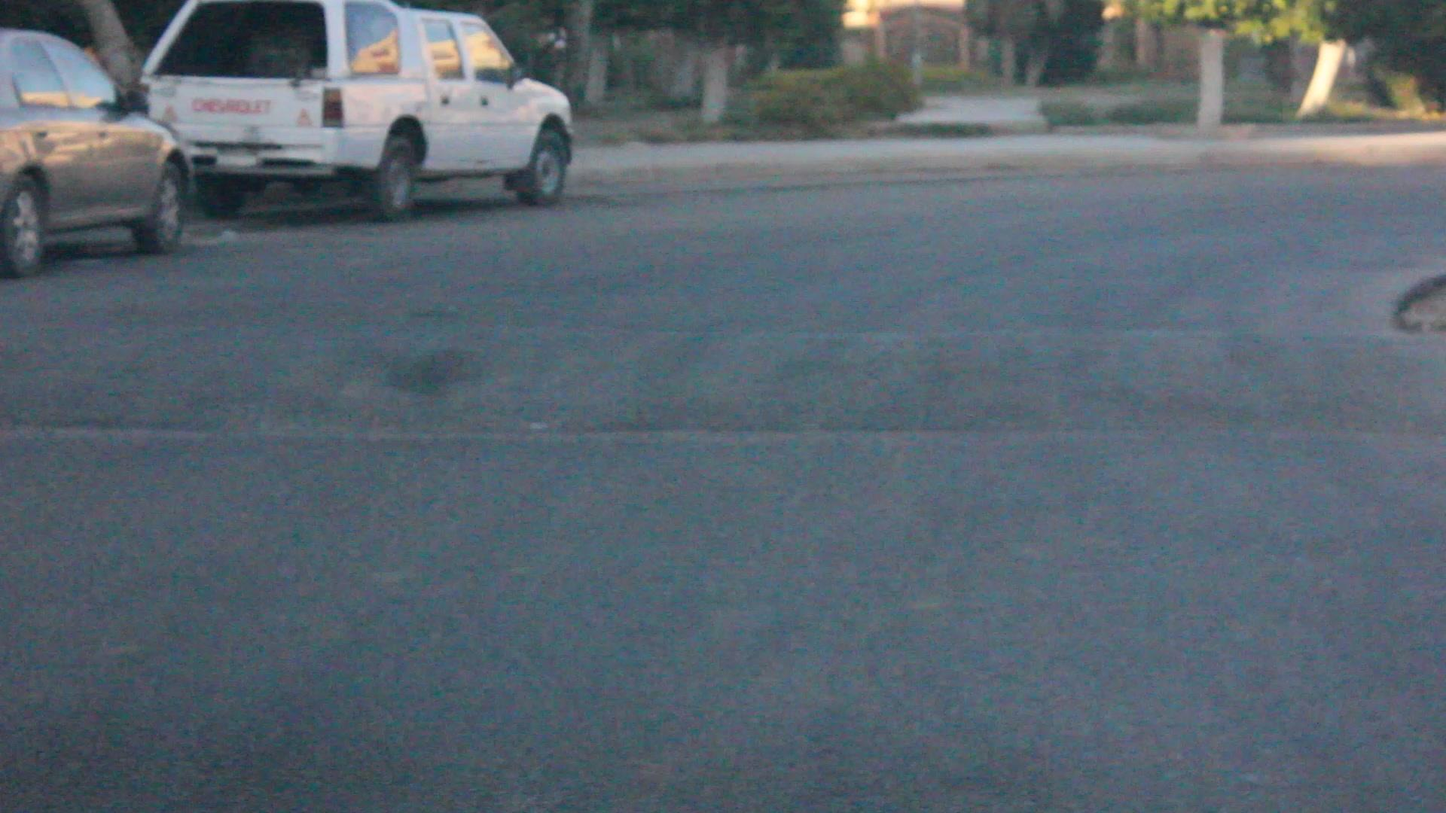Bump: (21, 288, 1446, 452)
